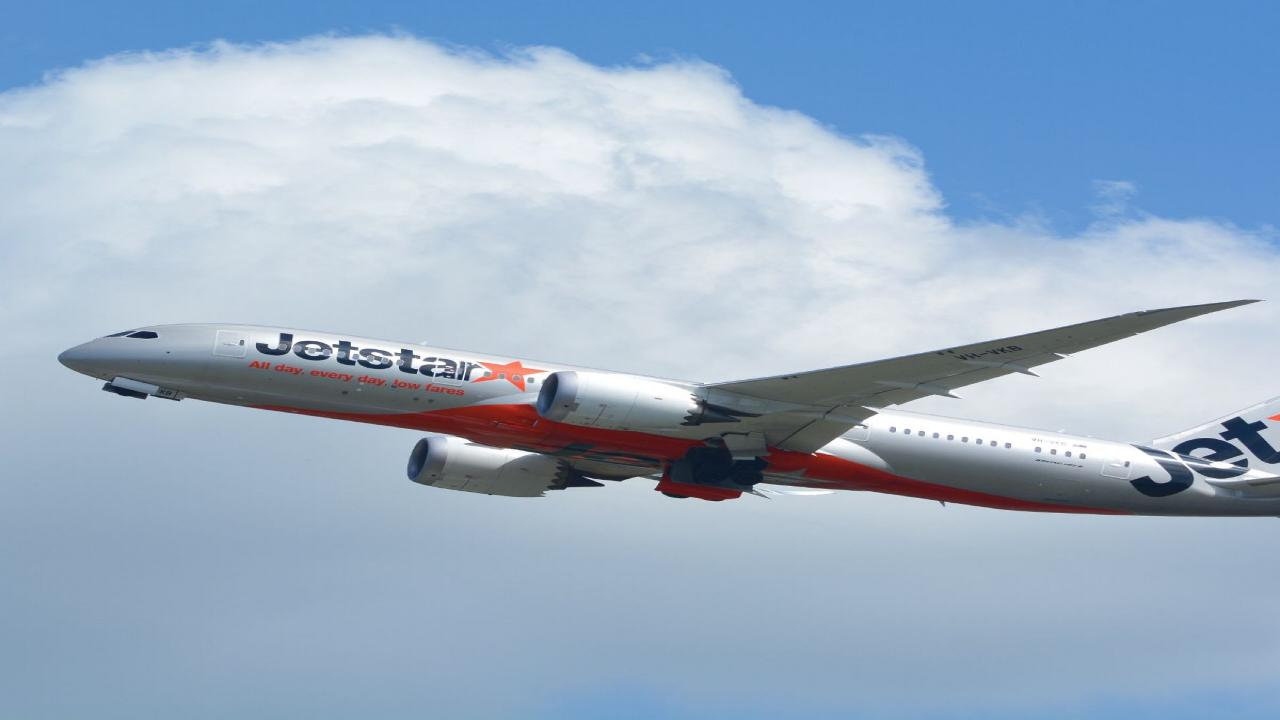Airplane: (36, 284, 1280, 532)
